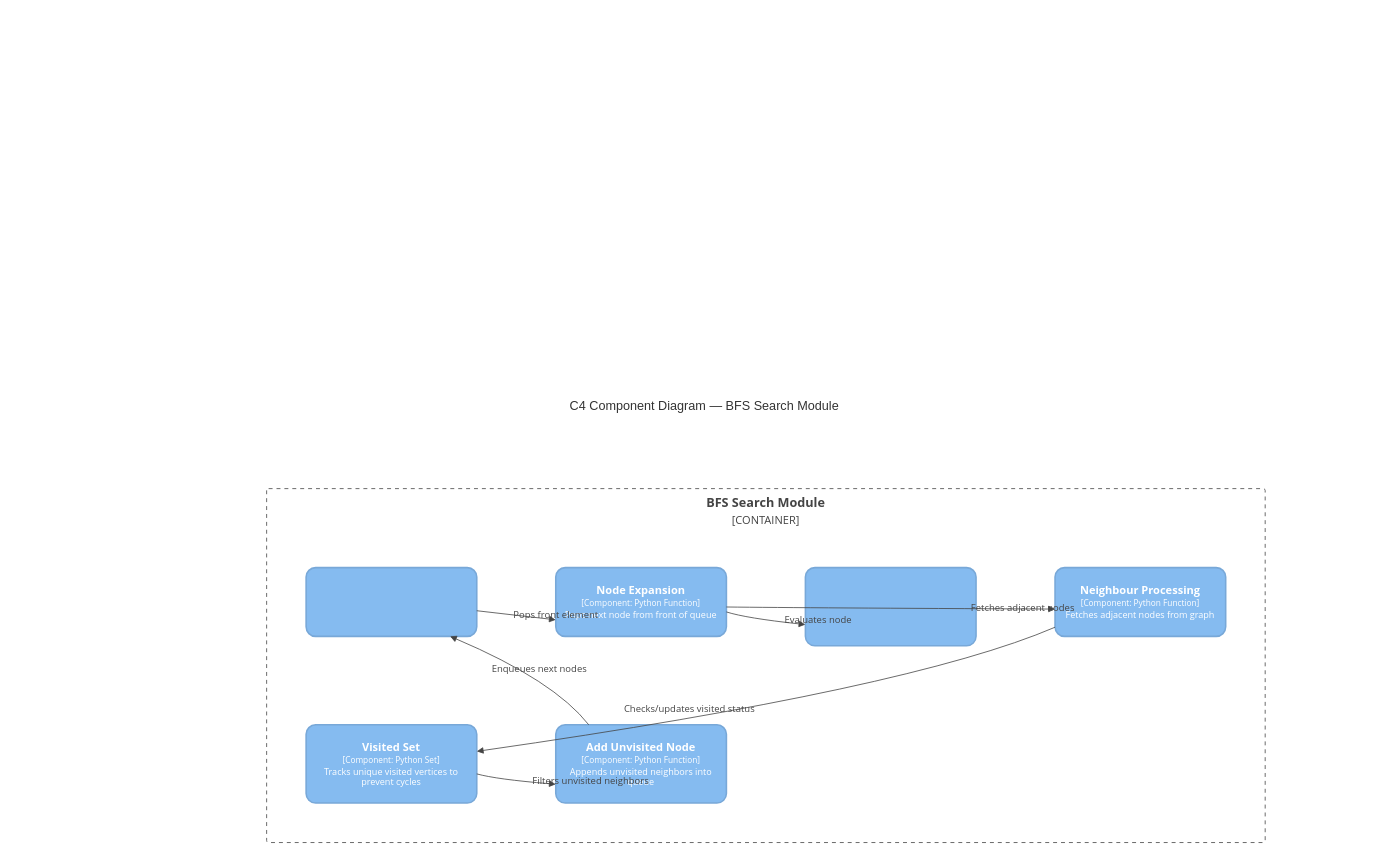
Image size: 1381x856. Some labels were removed from this diagram. Here are the shapes that lost their labels. From the top down, the centre of each, then its label:
pixel 391 601: Queue [Component: collections.deque] First-In, First-Out frontier queue
pixel 890 606: Goal Test [Component: Python Function] Checks if current node matches target
